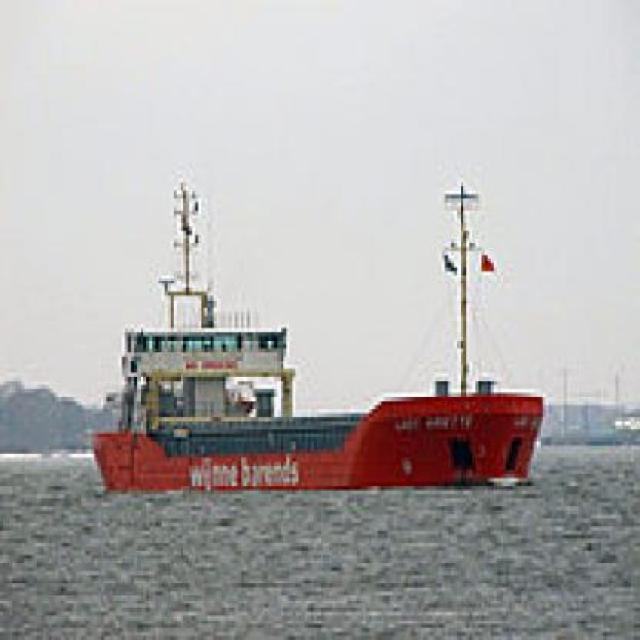container: (84, 167, 550, 503)
